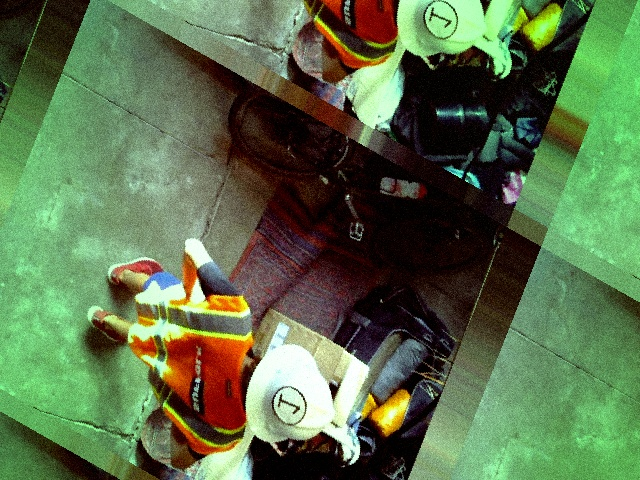one: (267, 380, 310, 430)
